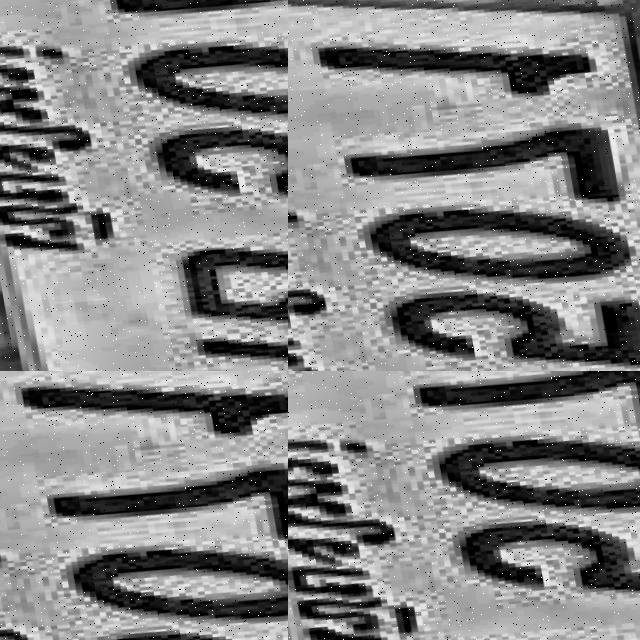license-plate: (0, 0, 288, 371), (288, 93, 640, 371), (288, 371, 640, 640), (0, 546, 288, 640)
